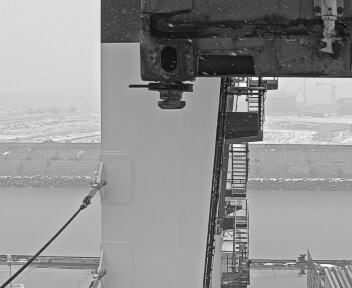twist_lock_1: (140, 75, 197, 120)
